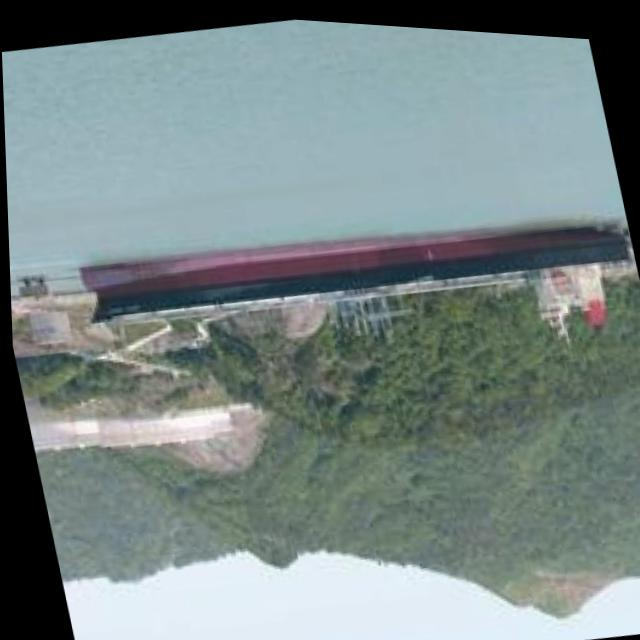ship2: (76, 215, 629, 344)
